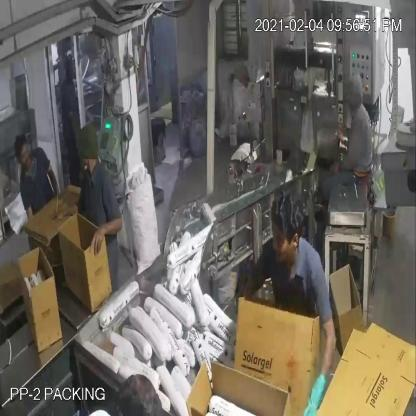glove: (299, 294, 339, 416)
no_glove: (86, 207, 126, 257)
